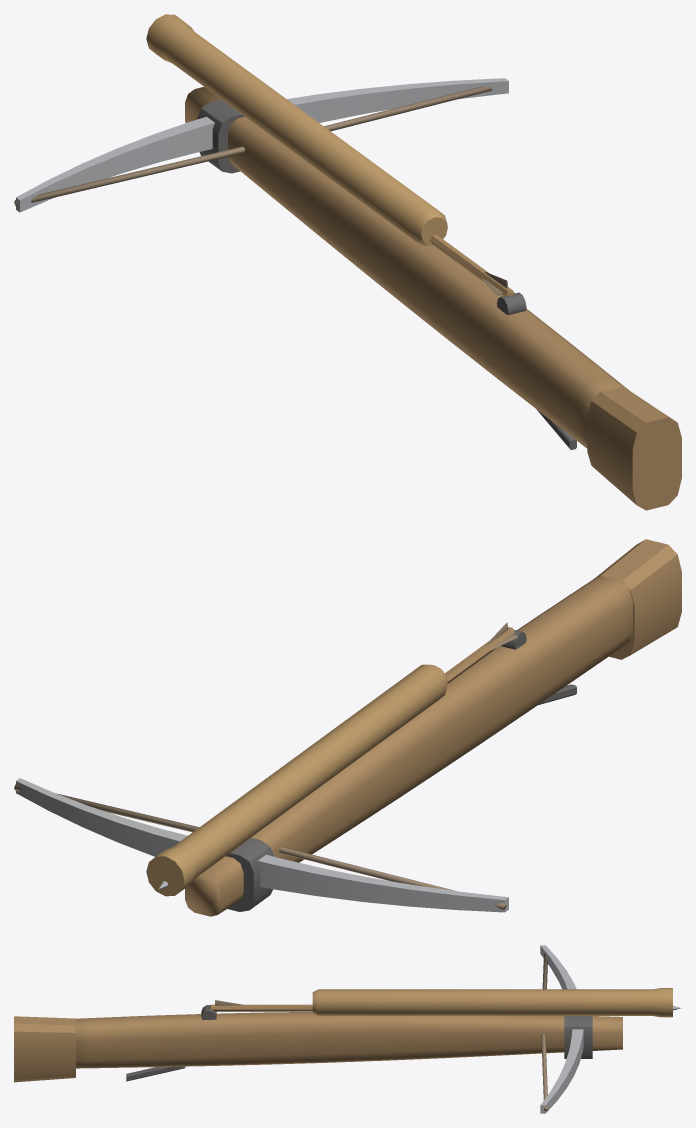
File: underwater-light-crossbow.glb
The picture shows the model from 3 angles, top to bottom: view 1: azimuth 30°, elevation 25°; view 2: azimuth 150°, elevation 25°; view 3: azimuth 270°, elevation 25°; orthographic projection. The views are drawn at different scales.
Visible parts, largest first — view 1: underwater-light-crossbow; view 2: underwater-light-crossbow; view 3: underwater-light-crossbow.
Part boxes in pixels (x1=…): underwater-light-crossbow: x1=14, y1=14, x2=681, y2=510; underwater-light-crossbow: x1=14, y1=539, x2=681, y2=916; underwater-light-crossbow: x1=14, y1=945, x2=681, y2=1113.
Bounding box in the file's own units: 1.28 × 0.3415 × 2.26.
